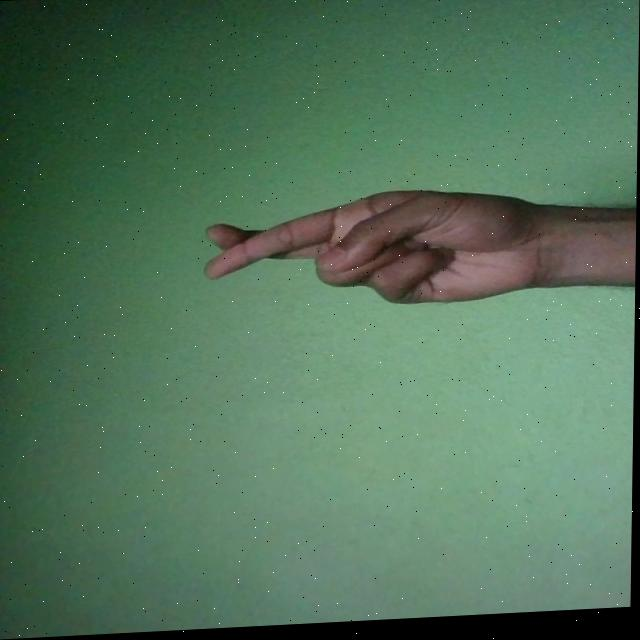Good Luck: (203, 187, 550, 317)
